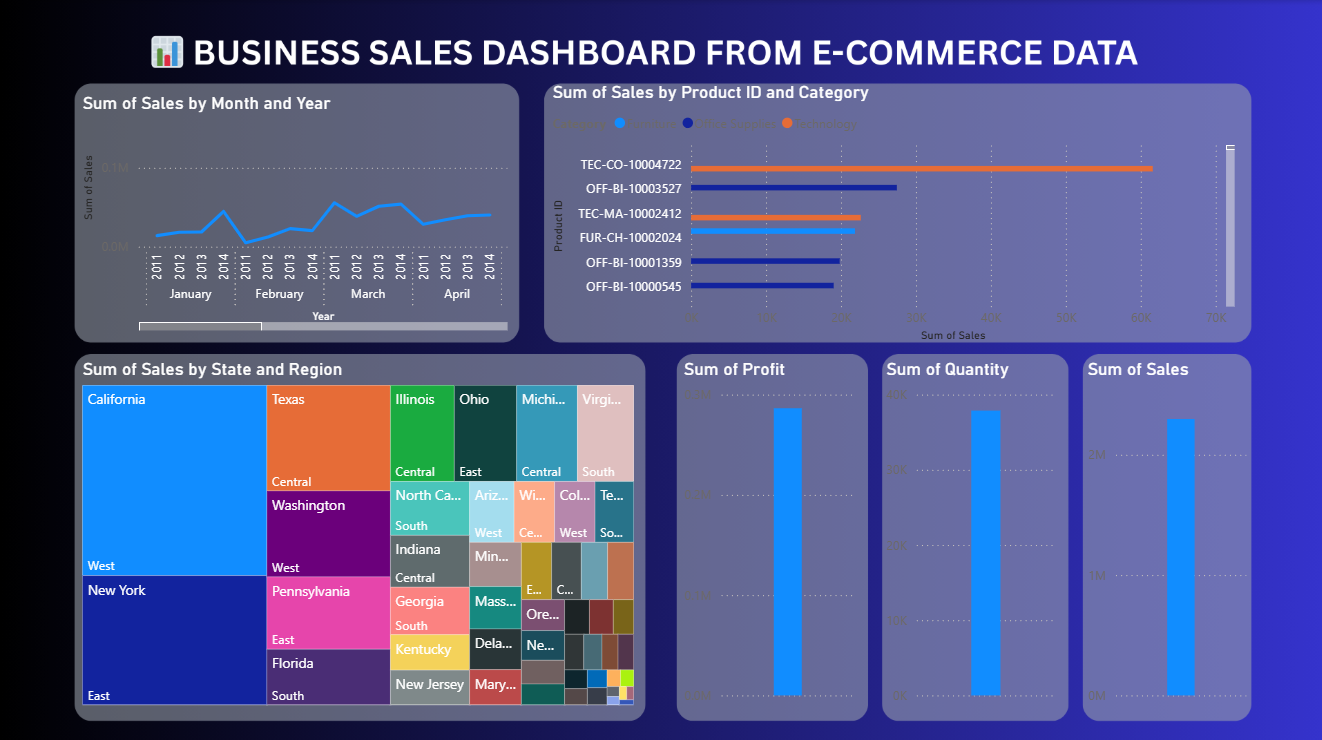

What the dashboard file says about the page in this screenshot:
{"tool":"powerbi","page":{"name":"Page 1","canvas":[1280,720],"ordinal":0},"visuals":[{"type":"lineChart","fields":{"Category":["Orders.Order Date.Variation.Date Hierarchy.Month","Orders.Order Date.Variation.Date Hierarchy.Year"],"Y":["Sum(Orders.Sales)"]},"box":[75.4,89.9,420.3,234.8],"z":0},{"type":"clusteredBarChart","fields":{"Series":["Orders.Category"],"Category":["Orders.Product ID"],"Y":["Sum(Orders.Sales)"]},"box":[529,78.3,668.1,256.5],"z":1000},{"type":"treemap","fields":{"Details":["Orders.Region"],"Group":["Orders.State"],"Values":["Sum(Orders.Sales)"]},"box":[75.4,346.4,542,339.1],"z":2000},{"type":"clusteredColumnChart","fields":{"Y":["Sum(Orders.Profit)"]},"box":[655.1,346.4,175.4,339.1],"z":3000},{"type":"clusteredColumnChart","fields":{"Y":["Sum(Orders.Quantity)"]},"box":[850.7,346.4,173.9,339.1],"z":4000},{"type":"clusteredColumnChart","fields":{"Y":["Sum(Orders.Sales)"]},"box":[1044.9,346.4,163.8,339.1],"z":5000}]}

Visuals, with their boxes in screenshot pixels (x1, y1, x2, y2), scaled from the page's 1280x720 canvas onto the 1322x740 screenshot:
lineChart - Orders.Order Date.Variation.Date Hierarchy.Month x Orders.Order Date.Variation.Date Hierarchy.Year: 78, 92, 512, 334
clusteredBarChart - Orders.Category x Orders.Product ID: 546, 80, 1236, 344
treemap - Orders.Region x Orders.State: 78, 356, 638, 705
clusteredColumnChart - Sum(Orders.Profit): 677, 356, 858, 705
clusteredColumnChart - Sum(Orders.Quantity): 879, 356, 1058, 705
clusteredColumnChart - Sum(Orders.Sales): 1079, 356, 1248, 705
